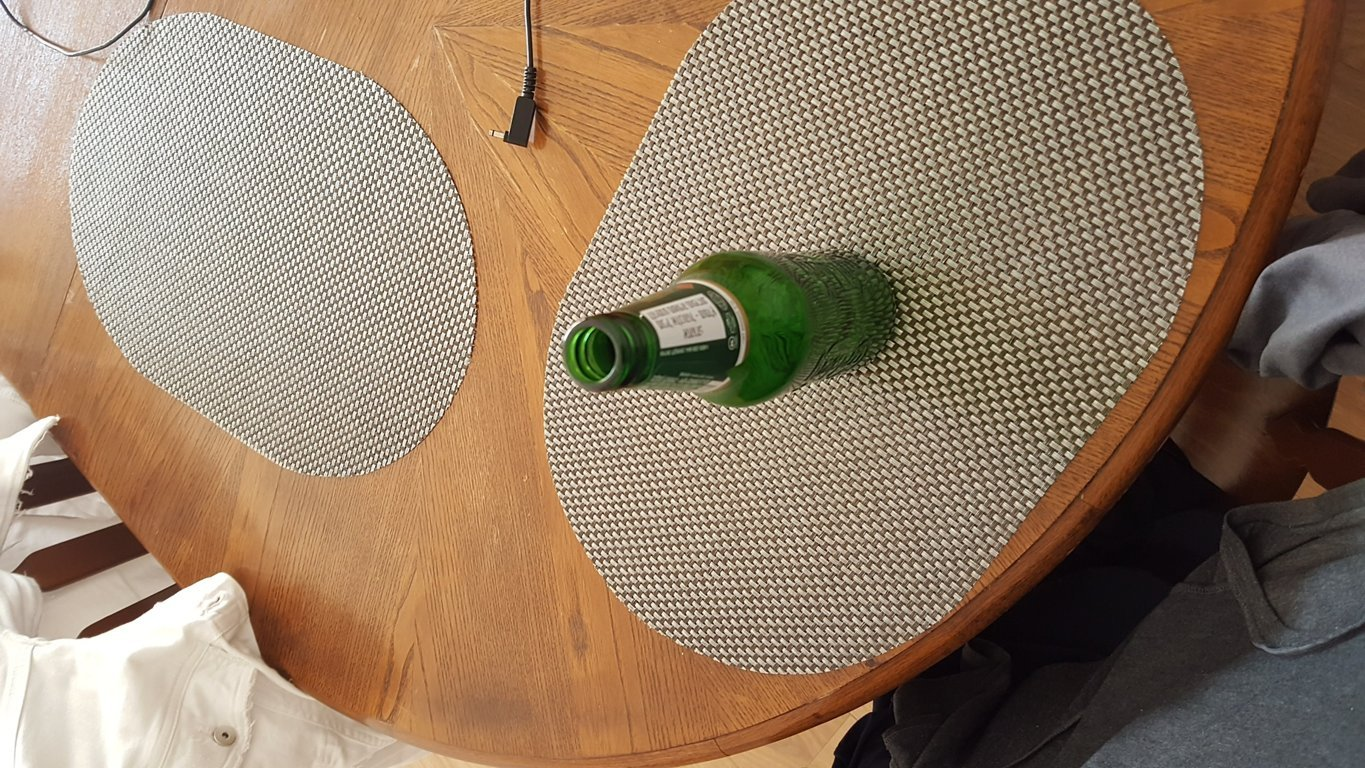beer: (566, 252, 899, 408)
